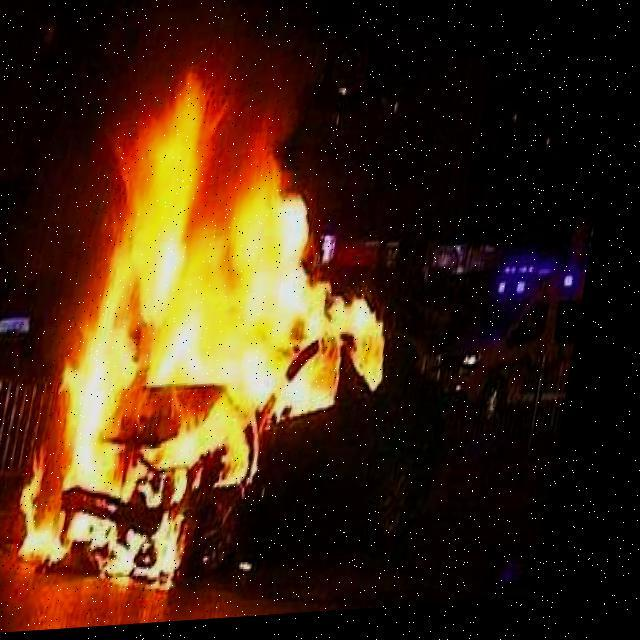Fire: (26, 68, 439, 596)
